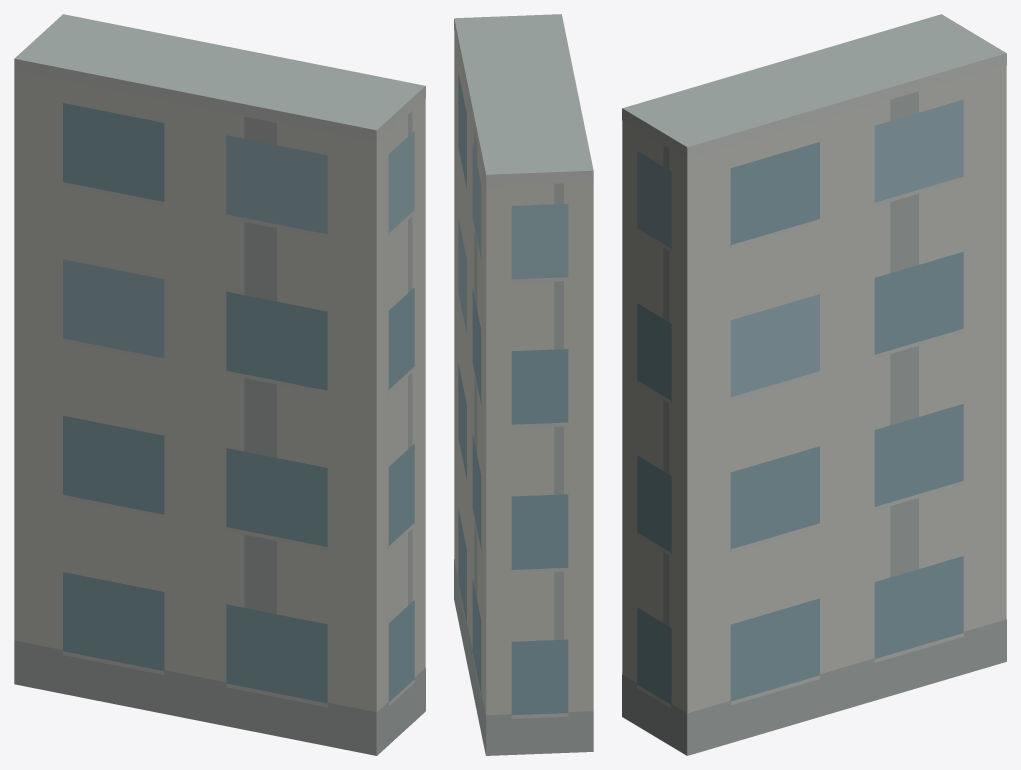
File: survey-upis-32522164.glb
3 renders of one model, left to right at view 1: azimuth 30°, elevation 25°; view 2: azimuth 150°, elevation 25°; view 3: azimuth 270°, elevation 25°, orthographic. The views are drawn at different scales.
Visible parts, largest first — view 1: survey-upis-32522164.tmp; view 2: survey-upis-32522164.tmp; view 3: survey-upis-32522164.tmp.
Boxes of the visible parts, <box> form: survey-upis-32522164.tmp: <box>14,14,425,755</box>; survey-upis-32522164.tmp: <box>454,14,593,755</box>; survey-upis-32522164.tmp: <box>622,14,1006,755</box>.
Bounding box in the file's own units: 5.74 × 12.2 × 6.99.
